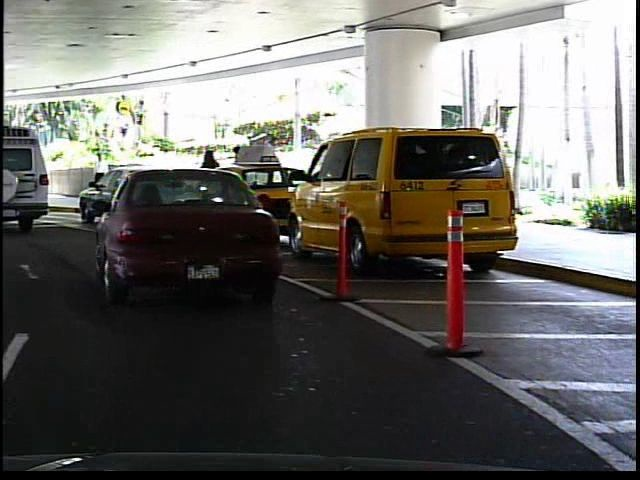person: (196, 143, 228, 206), (230, 140, 255, 205), (88, 146, 112, 201), (21, 156, 41, 197)
